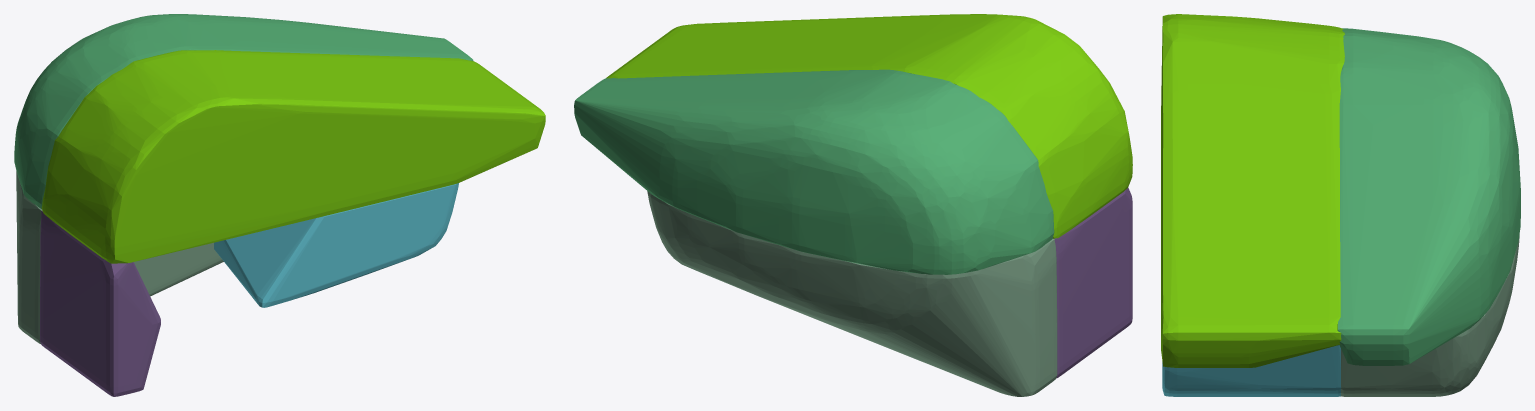
The model's file is hip-roll-housing_split.obj.
The picture shows the model from 3 angles, left to right: view 1: azimuth 30°, elevation 25°; view 2: azimuth 150°, elevation 25°; view 3: azimuth 270°, elevation 25°; orthographic projection. The views are drawn at different scales.
Visible parts, largest first — view 1: geometry_4, geometry_3, geometry_2, geometry_1, geometry_0; view 2: geometry_3, geometry_4, geometry_0, geometry_1; view 3: geometry_4, geometry_3, geometry_0, geometry_2.
Part boxes in pixels (x1,y1,x2,y2): geometry_4: (41,50,545,263); geometry_3: (14,14,473,208); geometry_2: (214,183,458,307); geometry_1: (40,211,160,396); geometry_0: (16,171,223,343); geometry_3: (574,69,1054,274); geometry_4: (606,14,1132,238); geometry_0: (647,191,1057,396); geometry_1: (1054,187,1132,378); geometry_4: (1161,14,1344,367); geometry_3: (1337,28,1520,365); geometry_0: (1341,235,1519,396); geometry_2: (1162,345,1341,396).
Size of the model in its own units: 0.1561 by 0.0924 by 0.0914.
